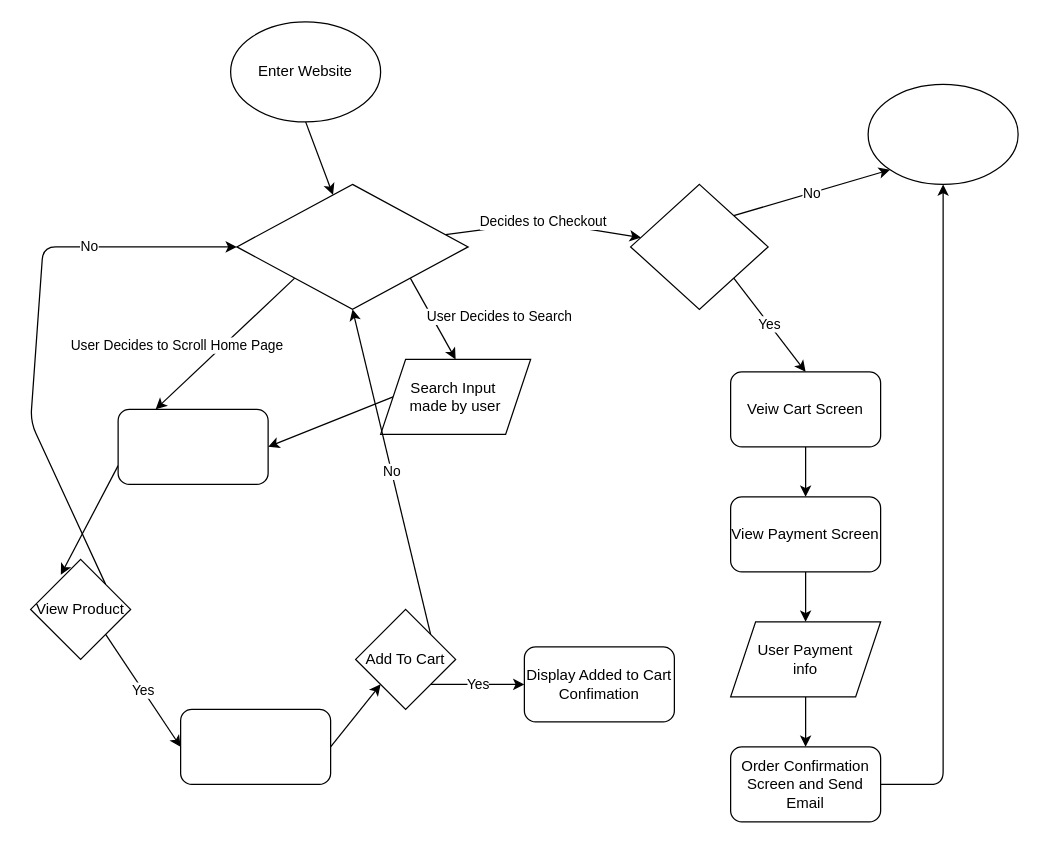
The diagram is 1040 pixels wide and 844 high, and some of its shapes have lost their labels. Each missing label, with the centre of its shape:
"Checkout" goes at (698,246).
"Display Product's Page" goes at (255,746).
"Display products / Shopping" goes at (192,446).
"How to look at products / Continue Shopping" goes at (352,246).
"Leave Website" goes at (942,133).
